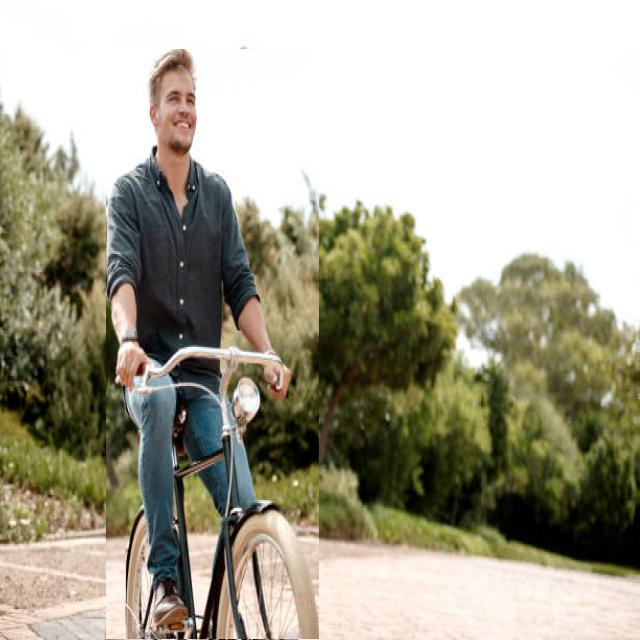bicycle: (106, 49, 319, 639)
